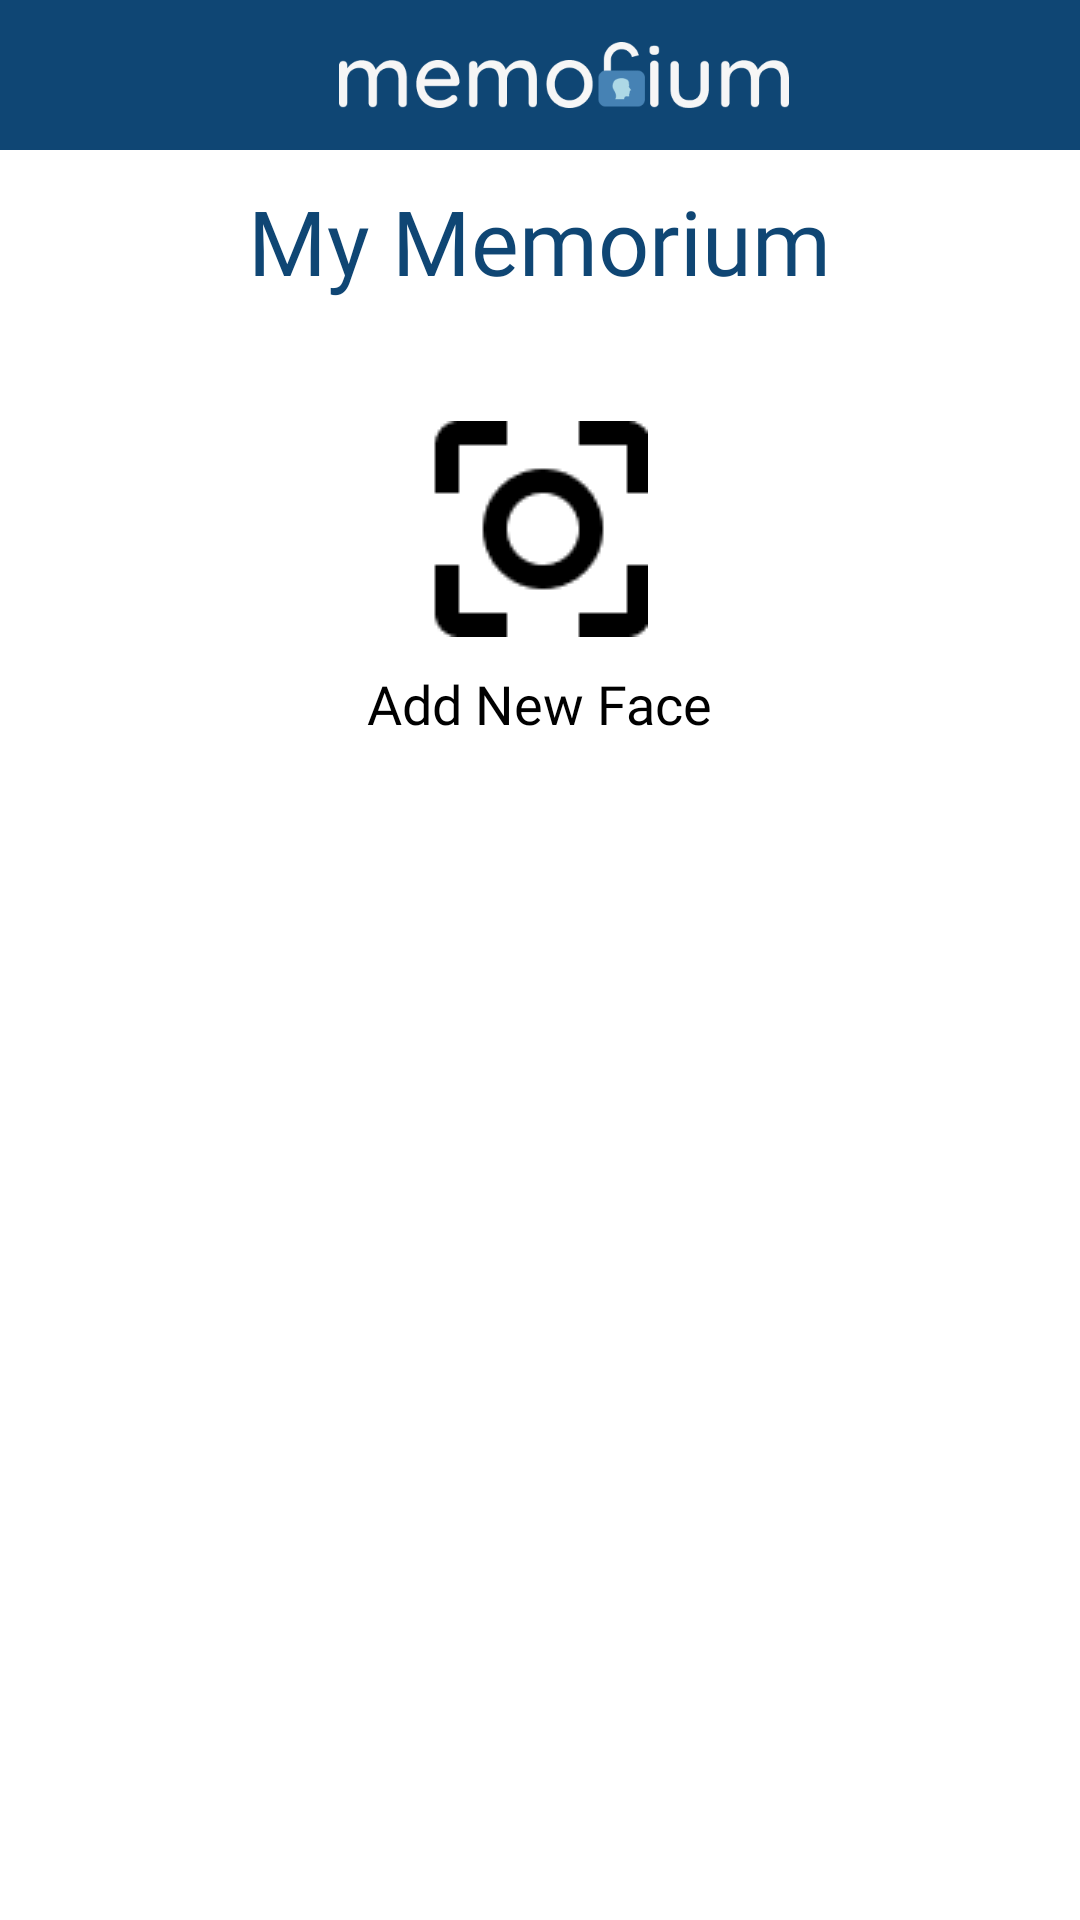

Where to tap for icons on this 1080px x 1920px app screen, as (x,y):
capture: (541,529)
